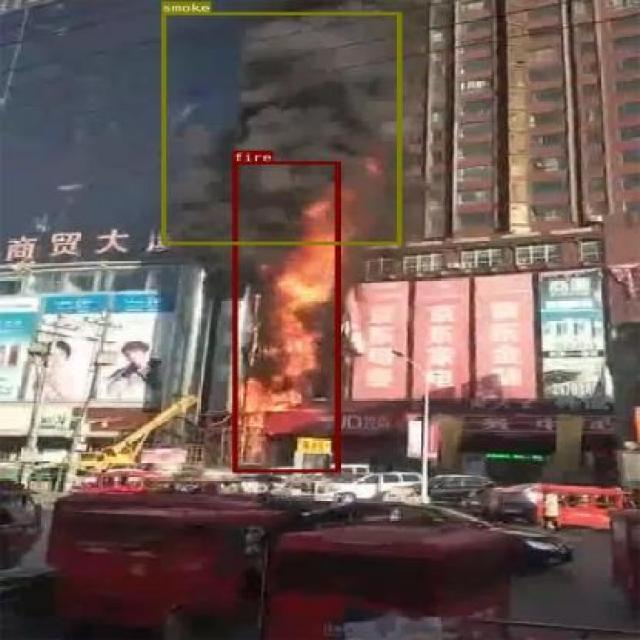fire: (232, 160, 340, 472)
smoke: (160, 11, 400, 244)
